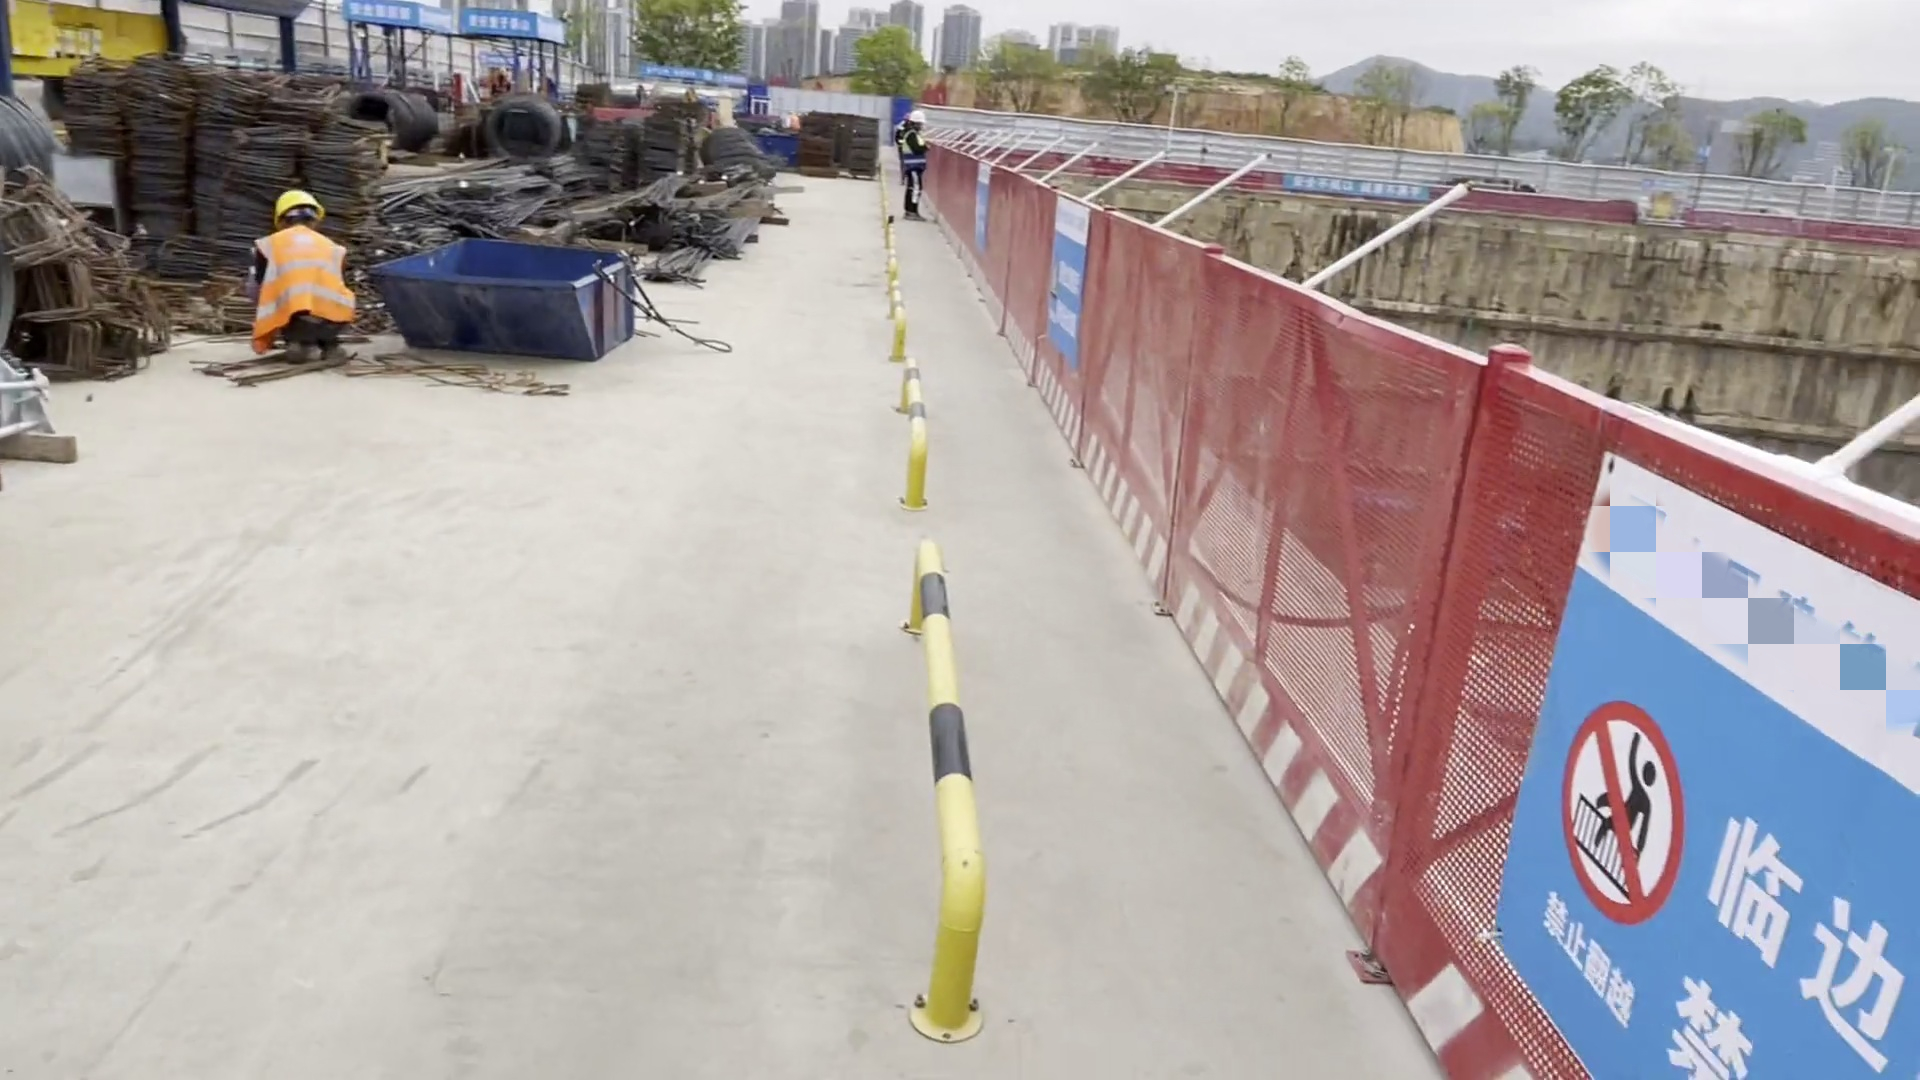fence: (941, 150, 1920, 1080), (1462, 194, 1858, 265)
helmet: (275, 184, 325, 217), (907, 107, 927, 124)
hopper: (374, 224, 642, 357)
person: (242, 178, 361, 357), (894, 110, 936, 236), (492, 65, 515, 100), (784, 110, 801, 136)
slogan: (1514, 475, 1920, 1080), (1042, 195, 1097, 367), (1290, 171, 1435, 213), (468, 6, 544, 39), (345, 3, 414, 28)
vest: (257, 227, 352, 324), (899, 131, 926, 177)
